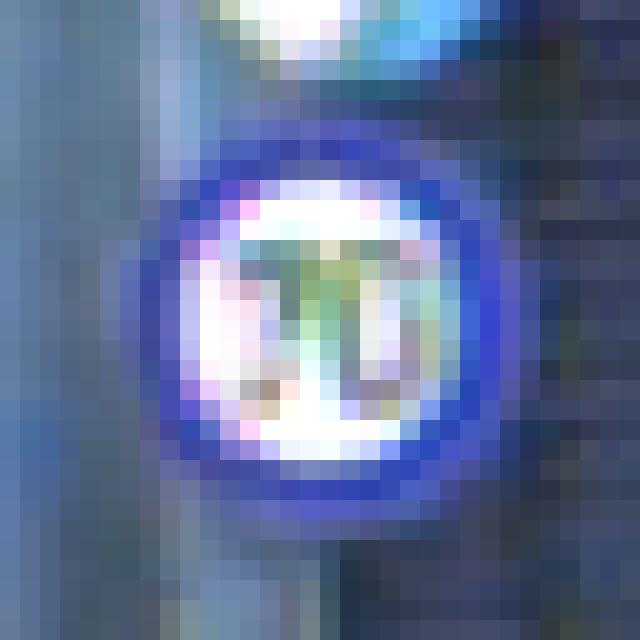SPEED LIMIT 70: (128, 159, 516, 515)
